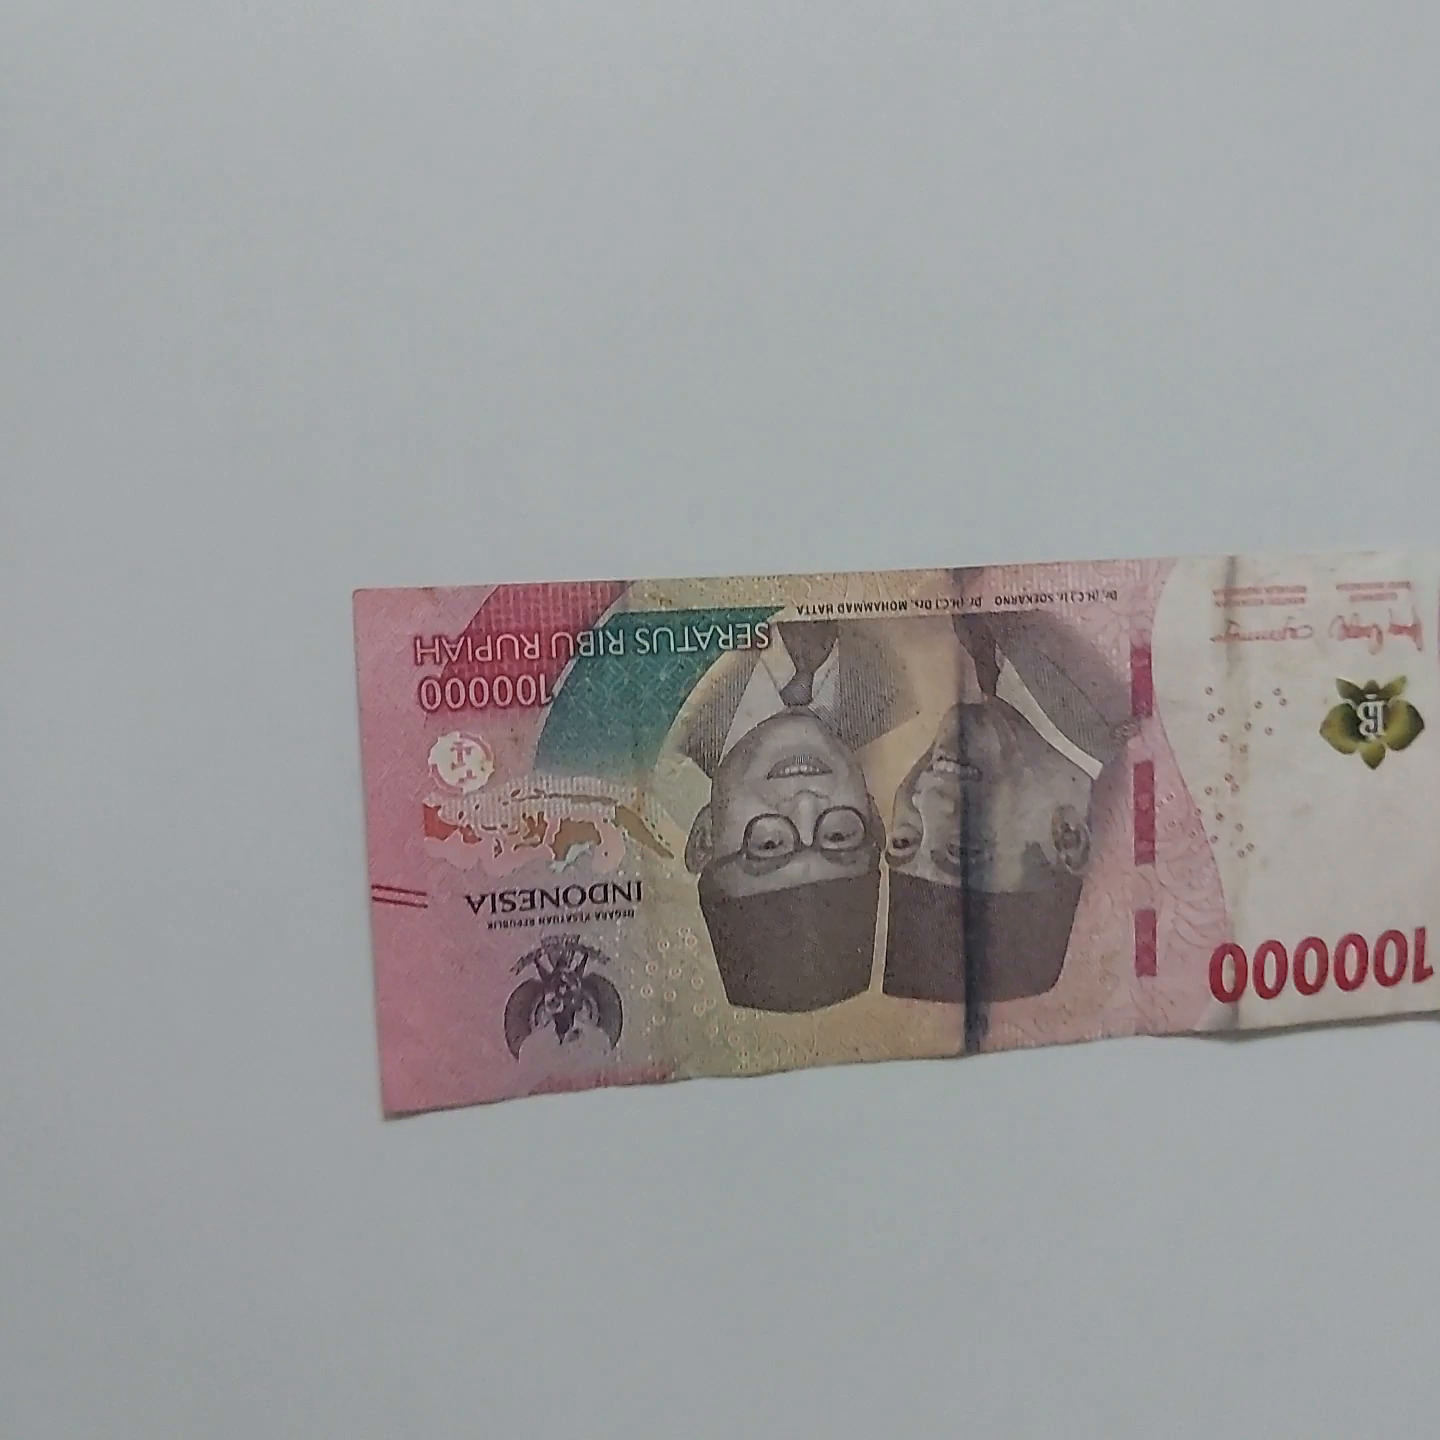100k: (361, 566, 1440, 1153)
